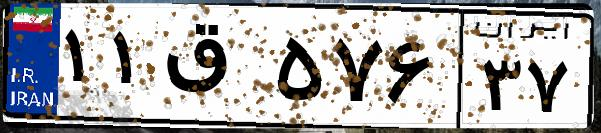1: (57, 26, 110, 100), (110, 28, 158, 98)
3: (475, 38, 525, 113)
5: (270, 28, 330, 110)
6: (385, 28, 445, 110)
7: (330, 28, 385, 110), (525, 38, 570, 115)
ق: (158, 20, 270, 120)
